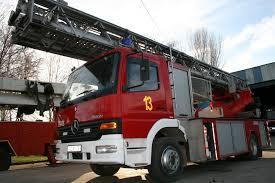Fire-engine: (1, 1, 270, 183)
